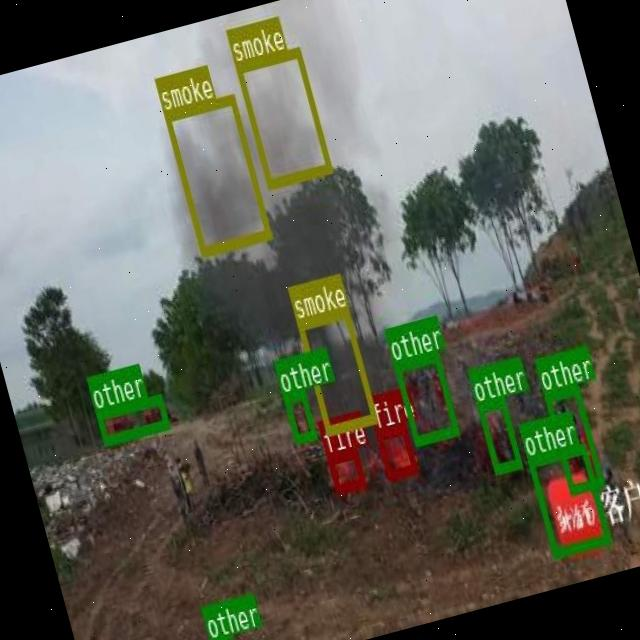fire: (374, 423, 416, 479), (325, 447, 364, 492)
smoke: (162, 93, 270, 254), (234, 46, 330, 186), (295, 306, 377, 434)
